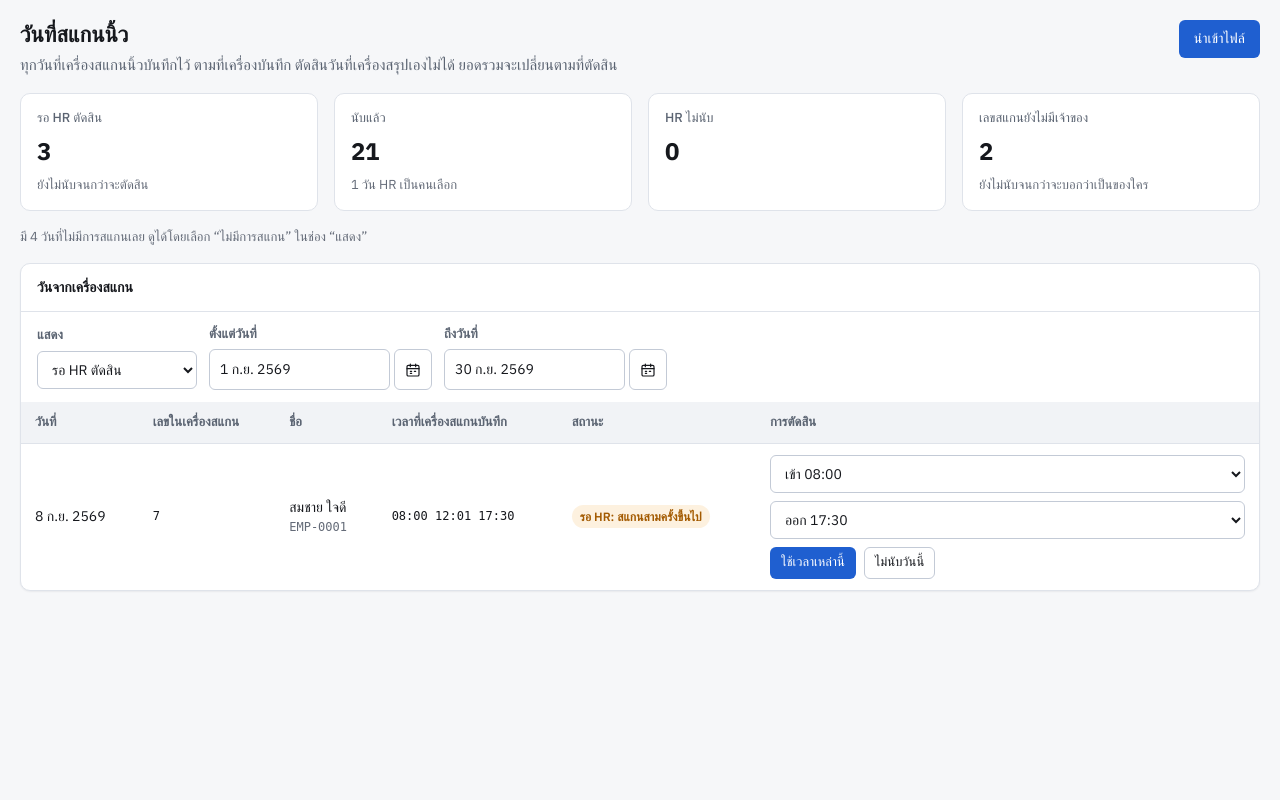
Test case: Reviewing the scanner’s days (CW-061) › records the chosen clock-in and clock-out, taken from the times on the scanner
Expected: the text "08:00 12:01 17:30" is shown, [378,443,558,590]
Expected: the dropdown named "เวลาเข้างานของ 7" shows "เข้า 08:00", [770,454,1245,492]
Select "ออก 12:01" in the dropdown named "เวลาเลิกงานของ 7" at (1007, 520), box [770,500,1245,538]
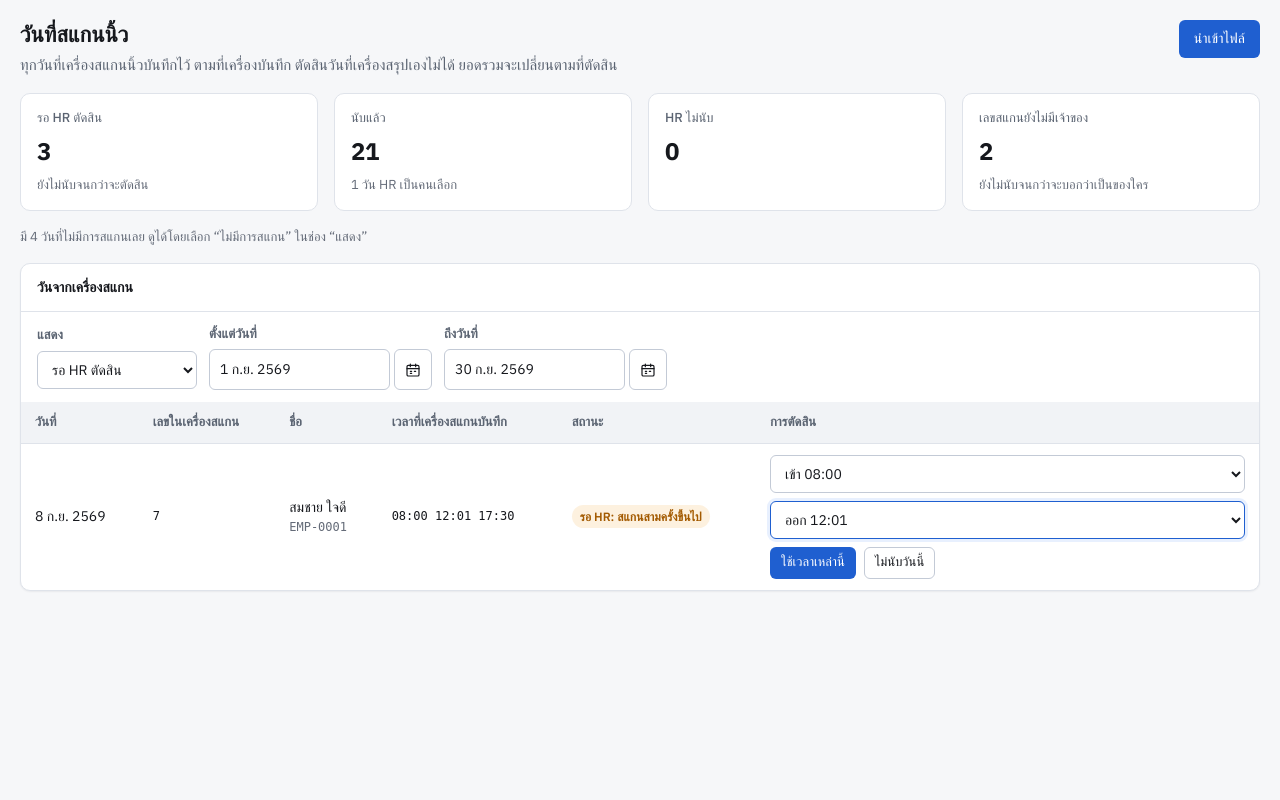
Click the button "ใช้เวลาเหล่านี้" at (813, 562), box [770,546,856,578]
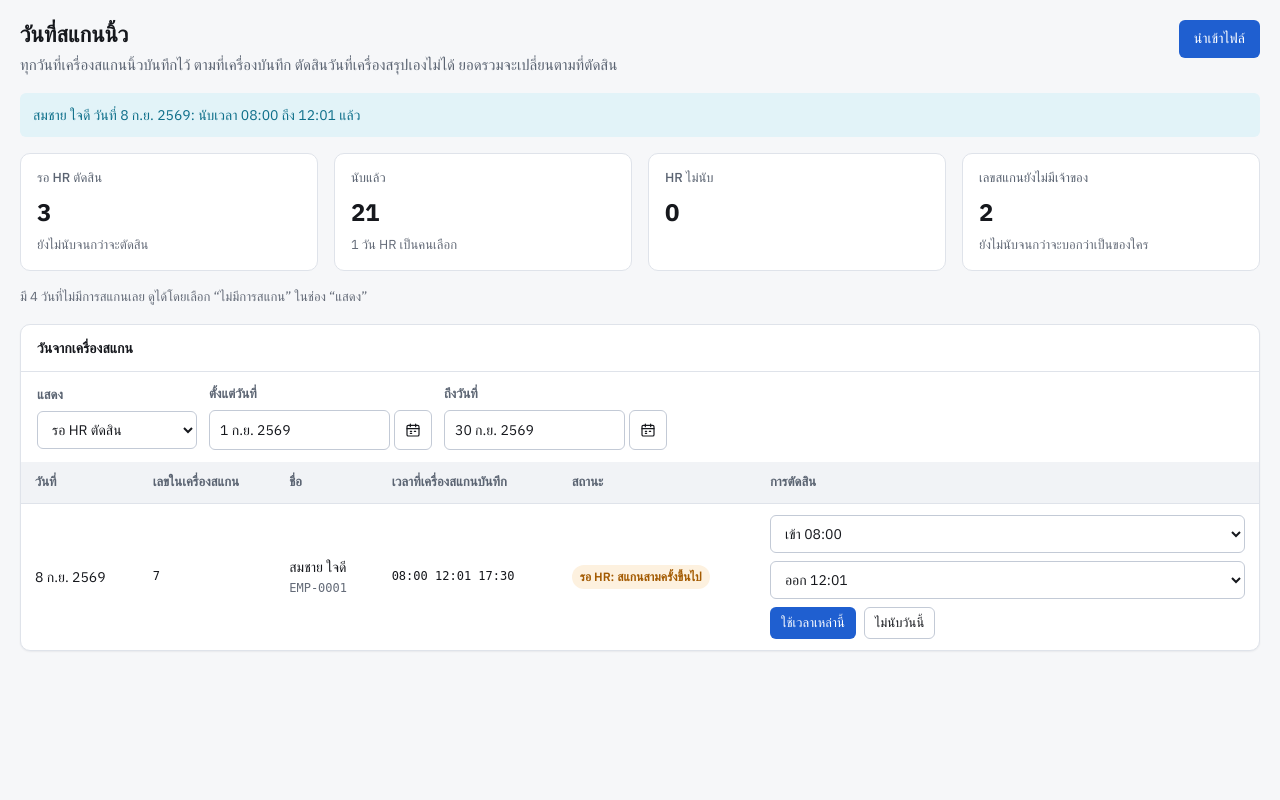
Expected: the message reads "สมชาย ใจดี วันที่ 8 ก.ย. 2569: นับเวลา 08:00 ถึง 12:01 แล้ว", [33,106,360,124]
